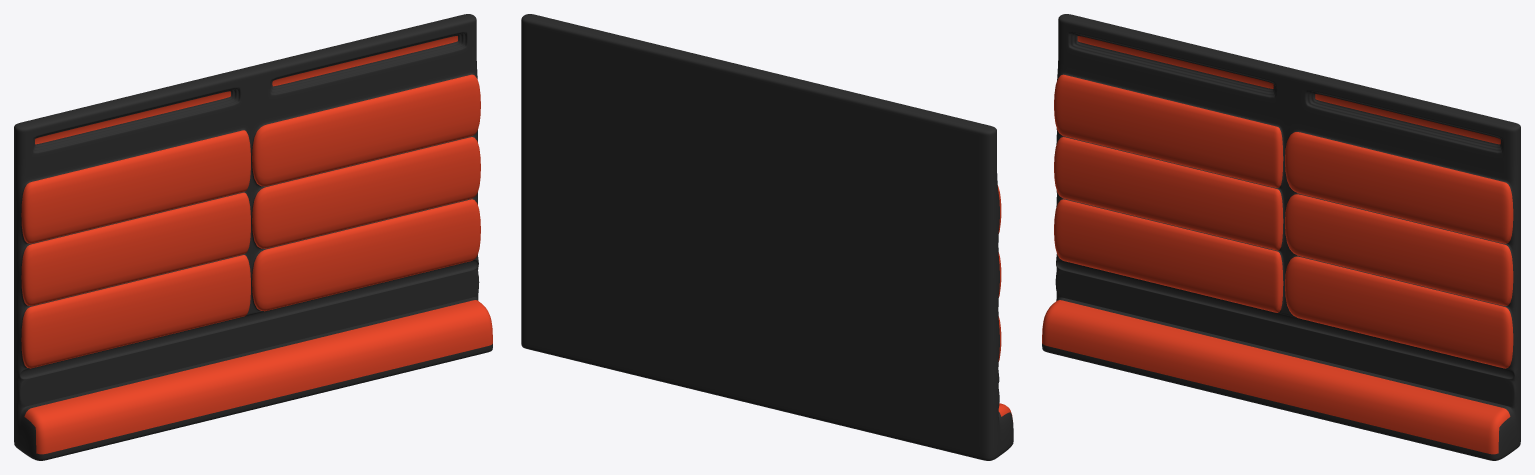
The model's file is Sci-Fi walls Final_done.fbx.
3 renders of one model, left to right at view 1: azimuth 30°, elevation 25°; view 2: azimuth 150°, elevation 25°; view 3: azimuth 330°, elevation 25°, orthographic. The views are drawn at different scales.
Parts seen in each view (by area): view 1: Cube; view 2: Cube; view 3: Cube.
Boxes of the visible parts, x1=… form: Cube: x1=14, y1=14, x2=492, y2=460; Cube: x1=521, y1=14, x2=1013, y2=460; Cube: x1=1042, y1=14, x2=1520, y2=460.
Size of the model in its own units: 600 by 400 by 60.
